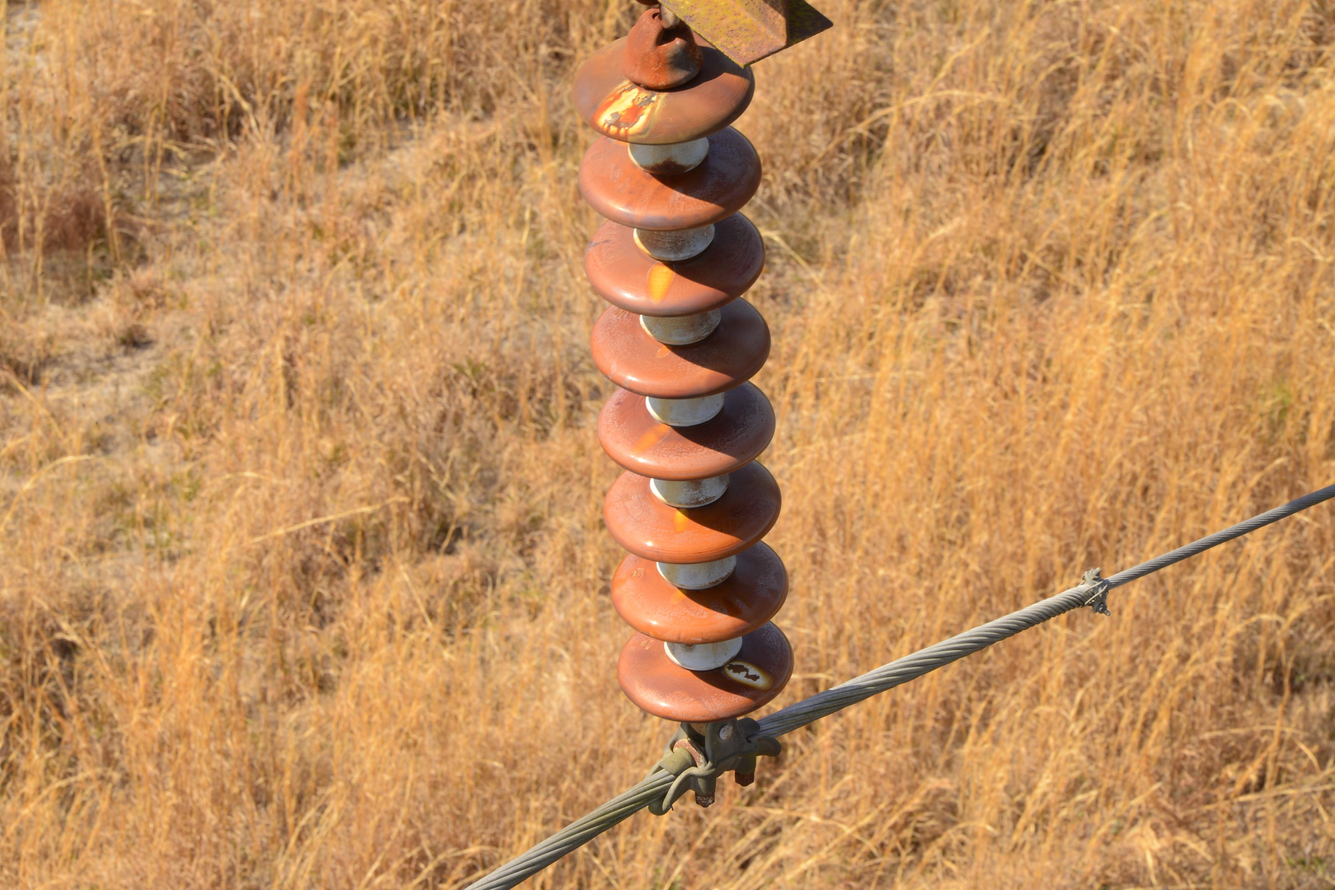Flashover: (592, 71, 665, 137), (637, 253, 682, 308), (723, 658, 776, 693), (633, 417, 670, 455), (670, 505, 692, 535), (669, 585, 690, 606), (654, 340, 675, 359)
insulator: (568, 38, 796, 732)
